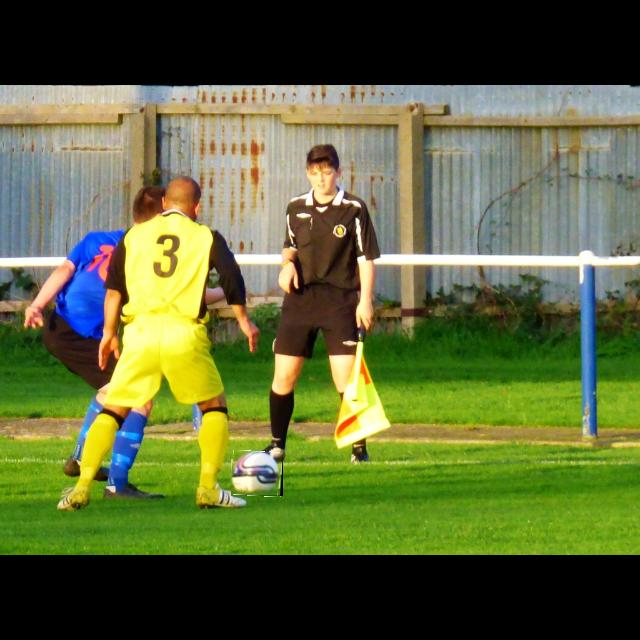Football: (231, 452, 283, 496)
